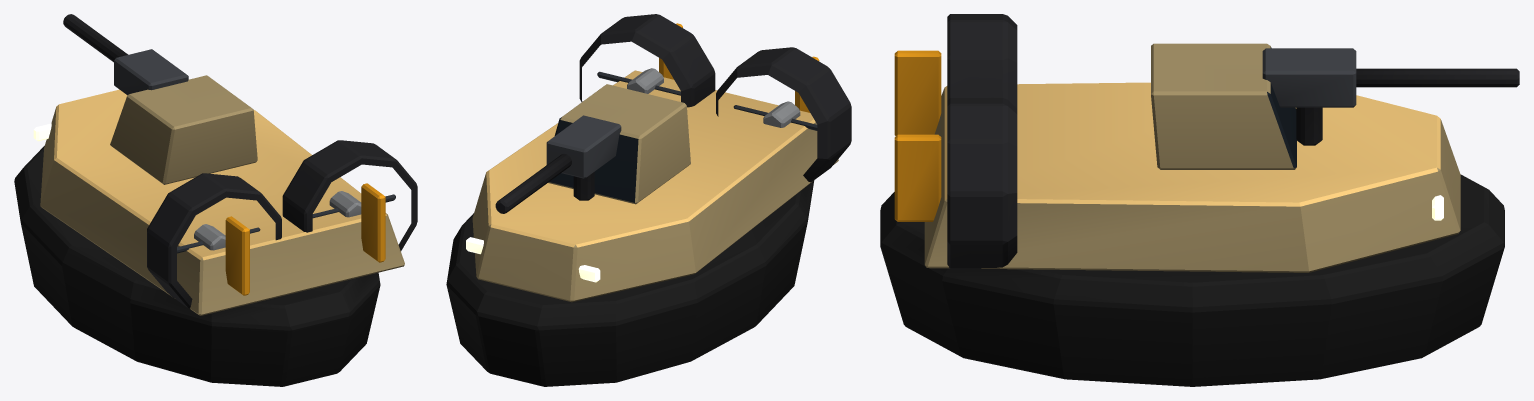
Rendered from hover_skimmer.glb.
The picture shows the model from 3 angles, left to right: view 1: azimuth 30°, elevation 25°; view 2: azimuth 150°, elevation 25°; view 3: azimuth 270°, elevation 25°; orthographic projection. The views are drawn at different scales.
Parts seen in each view (by area): view 1: hover_skimmer; view 2: hover_skimmer; view 3: hover_skimmer.
Part boxes in pixels (box(x1,y1,x2,y2)): hover_skimmer: box(14, 14, 417, 386); hover_skimmer: box(446, 14, 851, 386); hover_skimmer: box(880, 14, 1519, 386).
Bounding box in the file's own units: 0.6783 × 0.475 × 1.09.
